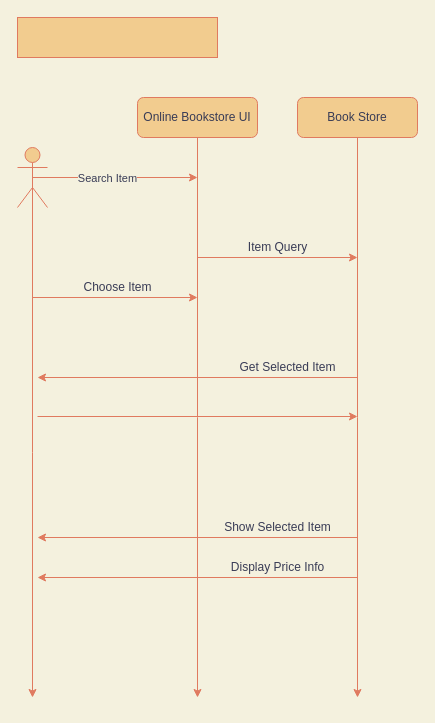
Some shapes in this 435 by 723 pixel diagram are drawn without their labels. The shapes that lost their labels are listed below. From the top down, each one's centre as x and y in pixels, then its label:
At (x=117, y=37): "Sequence".
At (x=32, y=177): "Actor".
